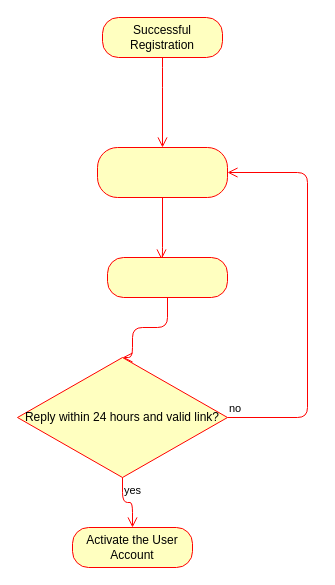
The diagram is 335 pixels wide and 585 high, and some of its shapes have lost their labels. Each missing label, with the box of its shape:
Listen to reply clicking of the link: (106, 256, 228, 298)
Send Email with verification link to User: (96, 146, 228, 198)
